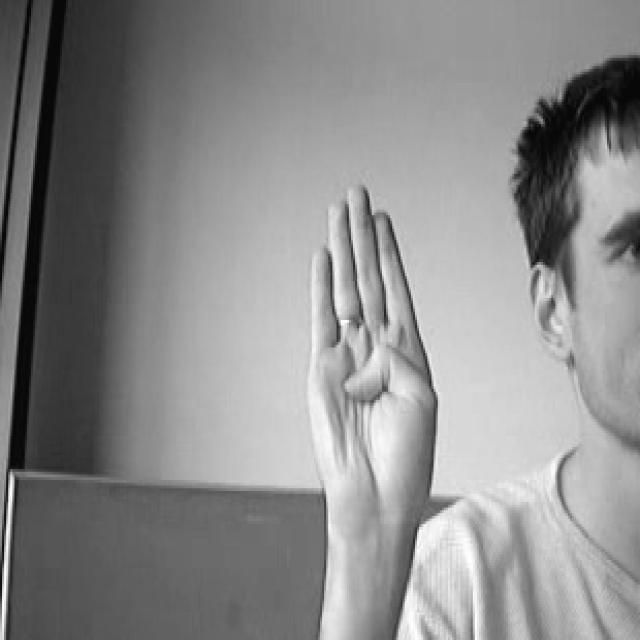B: (283, 170, 454, 534)
